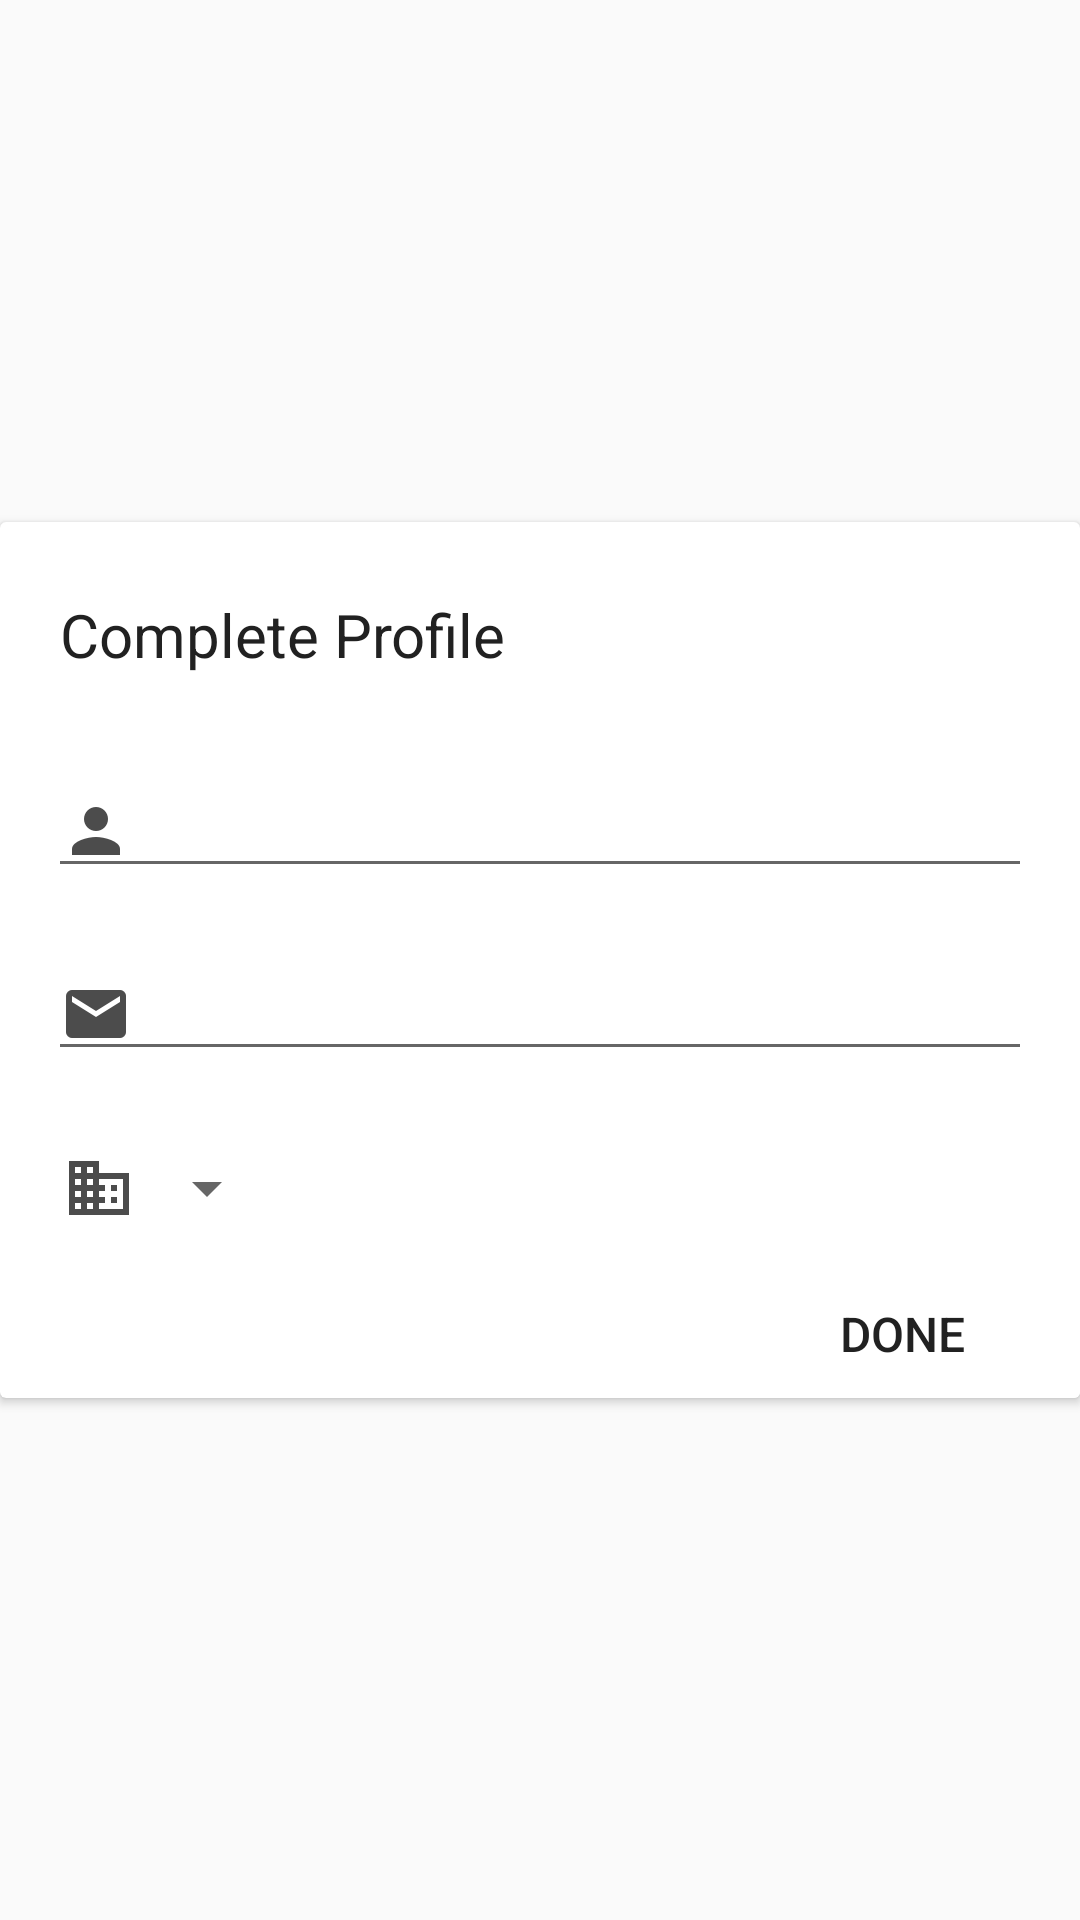

Icons on this 1080px×1920px Android screen, each with its box as box(x1, y1, x2, y2):
domain: box(69, 1161, 129, 1215)
